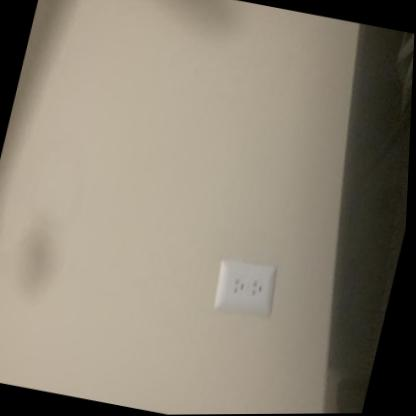OUTLET: (208, 256, 279, 316)
